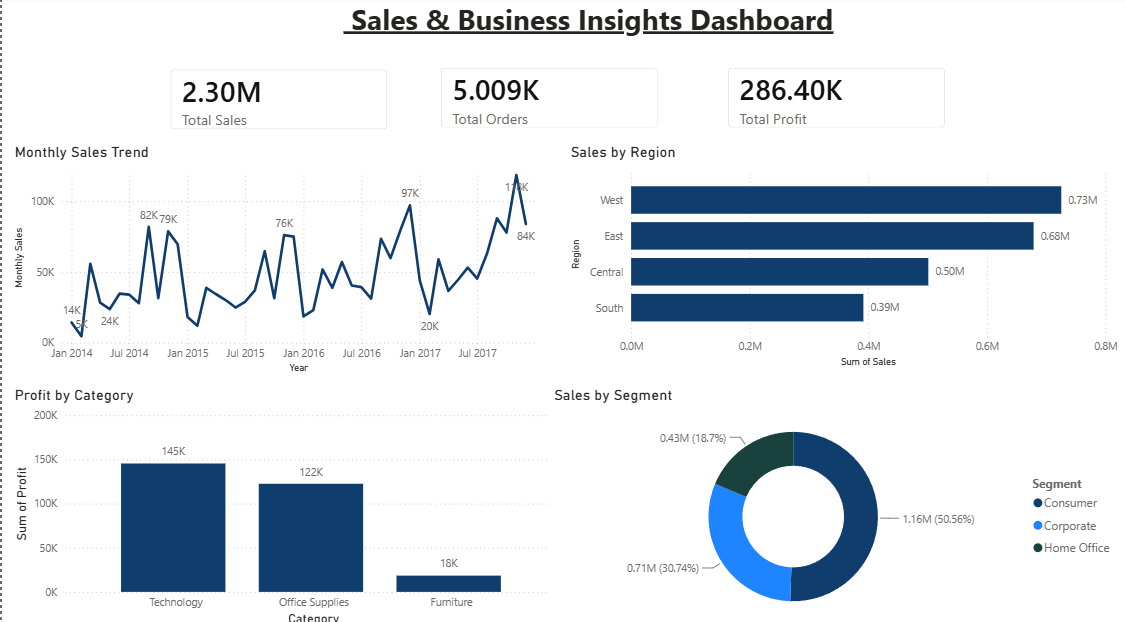

The page's visual inventory and layout, read from the dashboard file:
{"tool":"powerbi","page":{"name":"Executive Sales Dashboard","canvas":[1280,720],"ordinal":0},"visuals":[{"type":"cardVisual","fields":{"Data":["cleaned_superstore.Total Sales"]},"box":[174.1,67.4,280.9,103],"z":0},{"type":"cardVisual","fields":{"Data":["cleaned_superstore.Total Orders"]},"box":[481.2,65.5,280.9,103],"z":1000},{"type":"cardVisual","fields":{"Data":["cleaned_superstore.Total Profit"]},"box":[807.1,65.5,280.9,103],"z":2000},{"type":"lineChart","title":"Monthly Sales Trend","fields":{"Y":["cleaned_superstore.Monthly Sales"],"Category":["cleaned_superstore.Order Date.Variation.Date Hierarchy.Year","cleaned_superstore.Order Date.Variation.Date Hierarchy.Month"]},"box":[9.4,168.5,612.3,265.9],"z":3000},{"type":"clusteredBarChart","title":"Sales by Region","fields":{"Category":["cleaned_superstore.Region"],"Y":["Sum(cleaned_superstore.Sales)"]},"box":[640.4,168.5,631.1,258.4],"z":3001},{"type":"clusteredColumnChart","title":"Profit by Category","fields":{"Category":["cleaned_superstore.Category"],"Y":["Sum(cleaned_superstore.Profit)"]},"box":[9.4,443.8,631.1,277.1],"z":3002},{"type":"donutChart","title":"Sales by Segment","fields":{"Category":["cleaned_superstore.Segment"],"Y":["Sum(cleaned_superstore.Sales)"]},"box":[621.7,443.8,649.8,277.1],"z":3003},{"type":"textbox","box":[0,0,1271.5,65.5],"z":3004}]}

Visuals, with their boxes in screenshot pixels (x1, y1, x2, y2), scaled from the page's 1280x720 canvas onto the 1126x622 screenshot:
cardVisual - cleaned_superstore.Total Sales: 153/58/400/147
cardVisual - cleaned_superstore.Total Orders: 423/57/670/146
cardVisual - cleaned_superstore.Total Profit: 710/57/957/146
"Monthly Sales Trend" lineChart: 8/146/547/375
"Sales by Region" clusteredBarChart: 563/146/1119/369
"Profit by Category" clusteredColumnChart: 8/383/563/621
"Sales by Segment" donutChart: 547/383/1119/621
textbox: 0/0/1119/57
